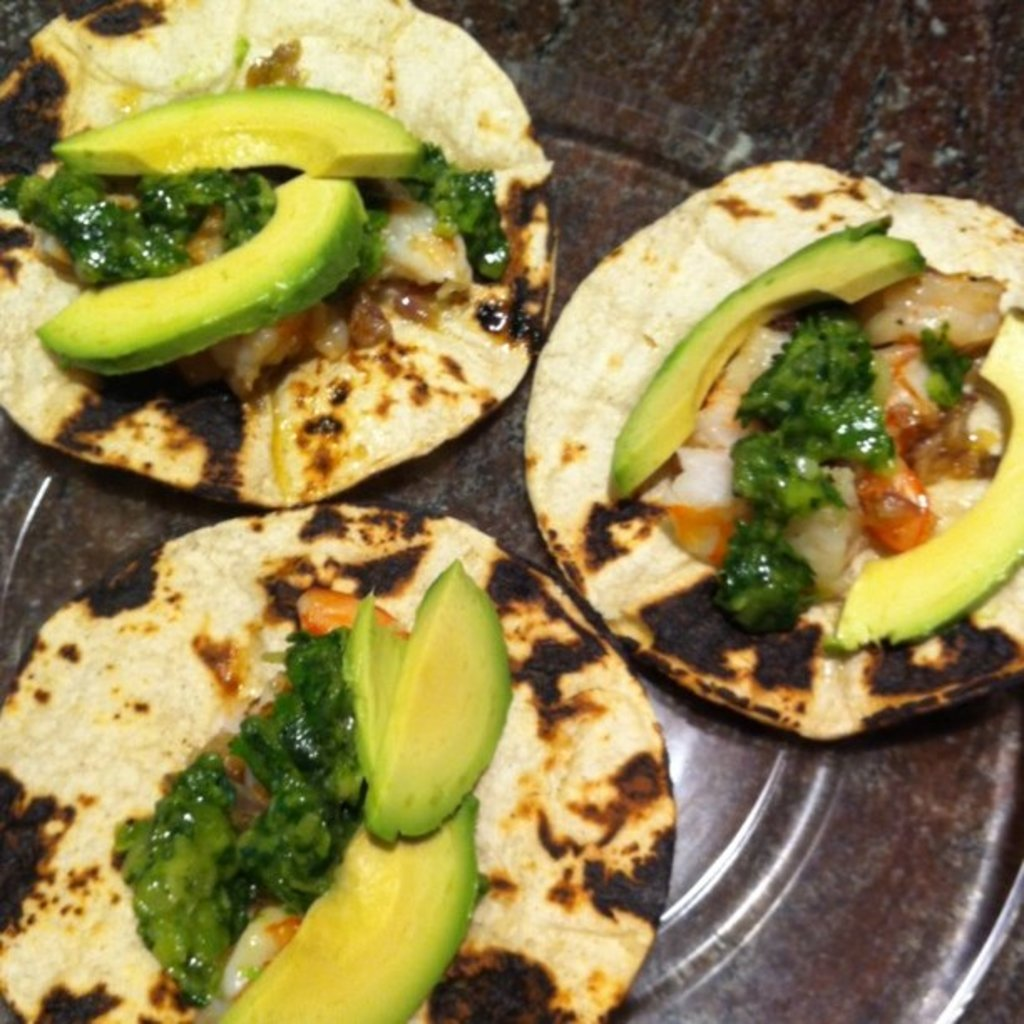taco: (2, 502, 671, 1022), (547, 154, 1016, 761), (0, 0, 552, 509)
